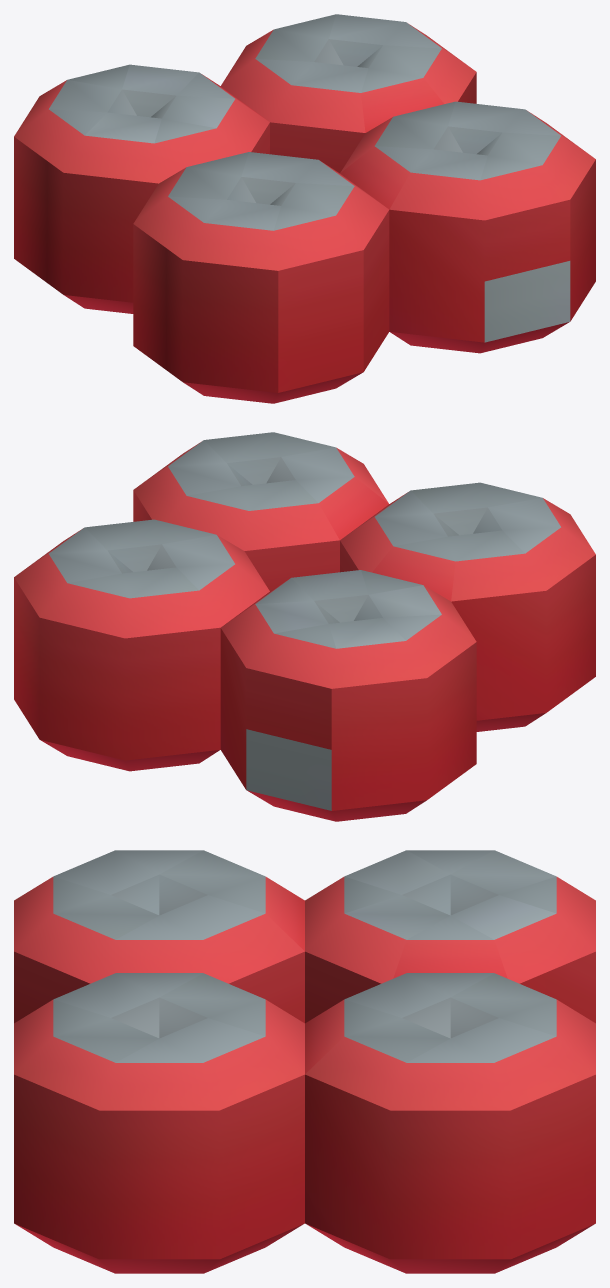
File: kay-conteineres-d.gltf
3 renders of one model, top to bottom at view 1: azimuth 30°, elevation 25°; view 2: azimuth 150°, elevation 25°; view 3: azimuth 270°, elevation 25°, orthographic. The views are drawn at different scales.
Parts seen in each view (by area): view 1: containers_D; view 2: containers_D; view 3: containers_D.
Part boxes in pixels (x1,y1,x2,y2): containers_D: [14, 14, 595, 403]; containers_D: [14, 432, 595, 821]; containers_D: [14, 850, 595, 1273].
Bounding box in the file's own units: 1.3 × 0.5199 × 1.3.
1 material, 1 textured.
